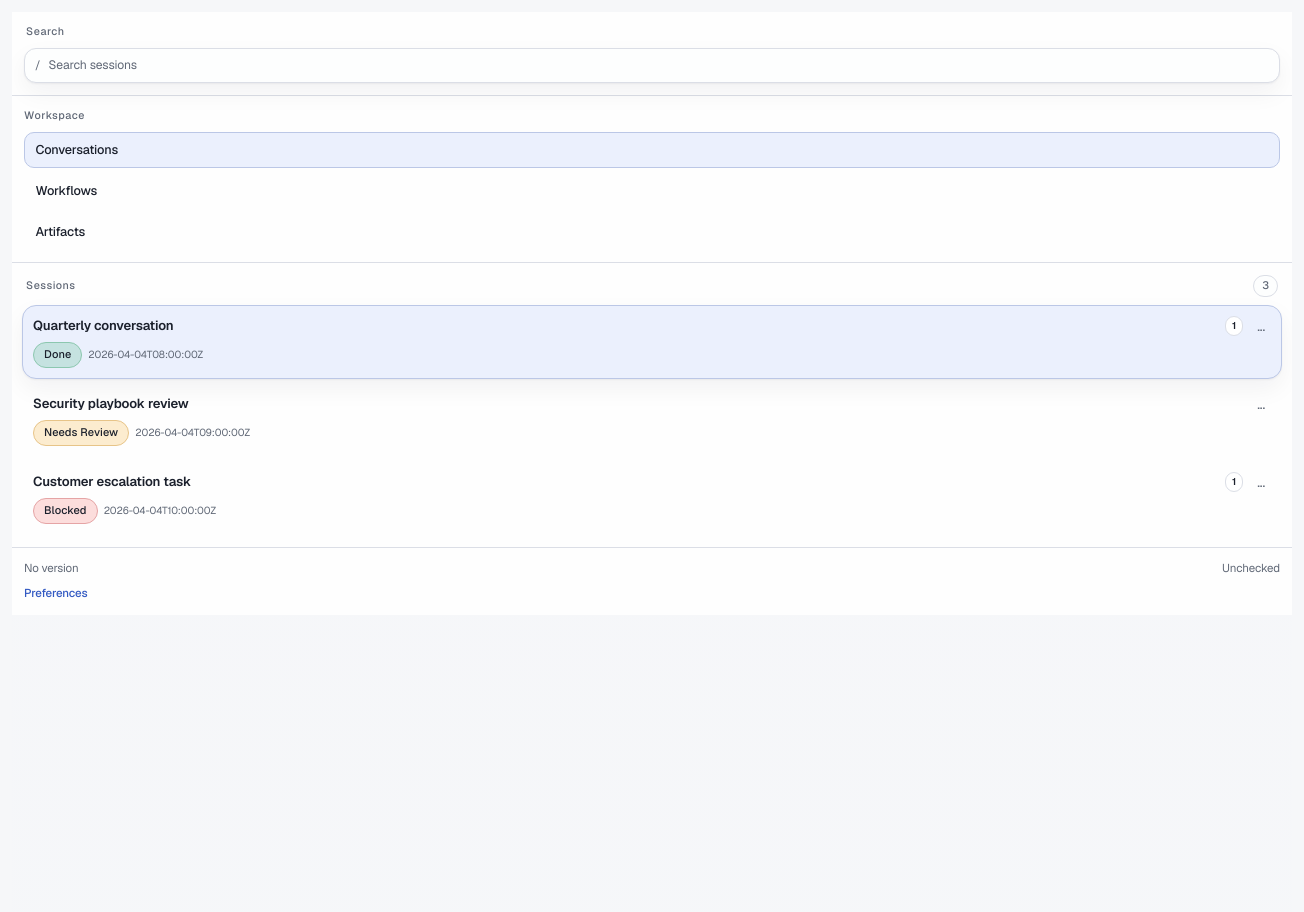
Test case: UserConsoleSidebar › renames a session from the sidebar
Expected: the text "Quarterly conversation" is shown, [33,317,174,334]
Step 1. Click the button named "more actions for quarterly conversation" → x=1261, y=327, box [1251,316,1271,337]
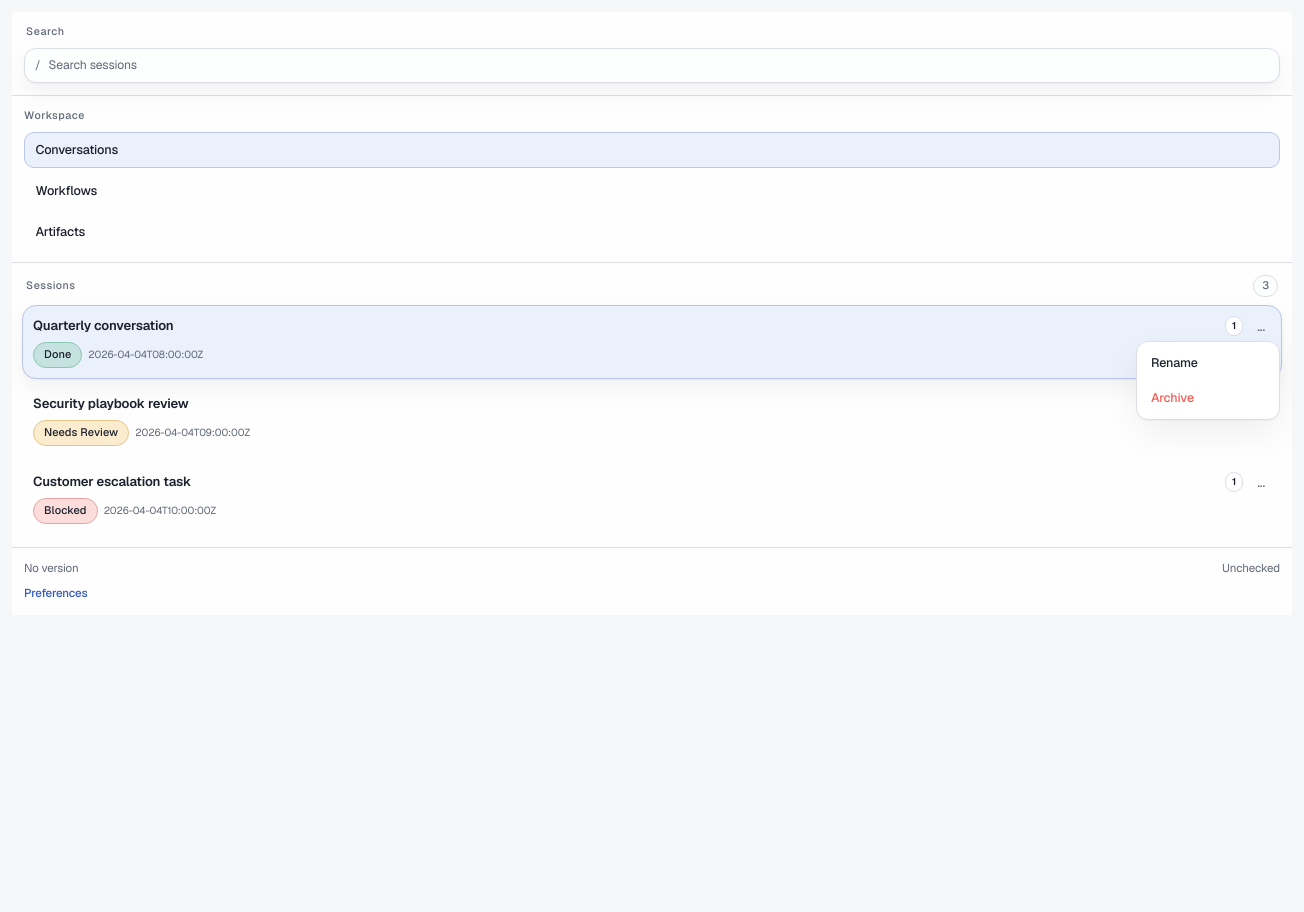
Step 2. Click the menu item "Rename" → x=1208, y=363, box [1141,346,1275,380]
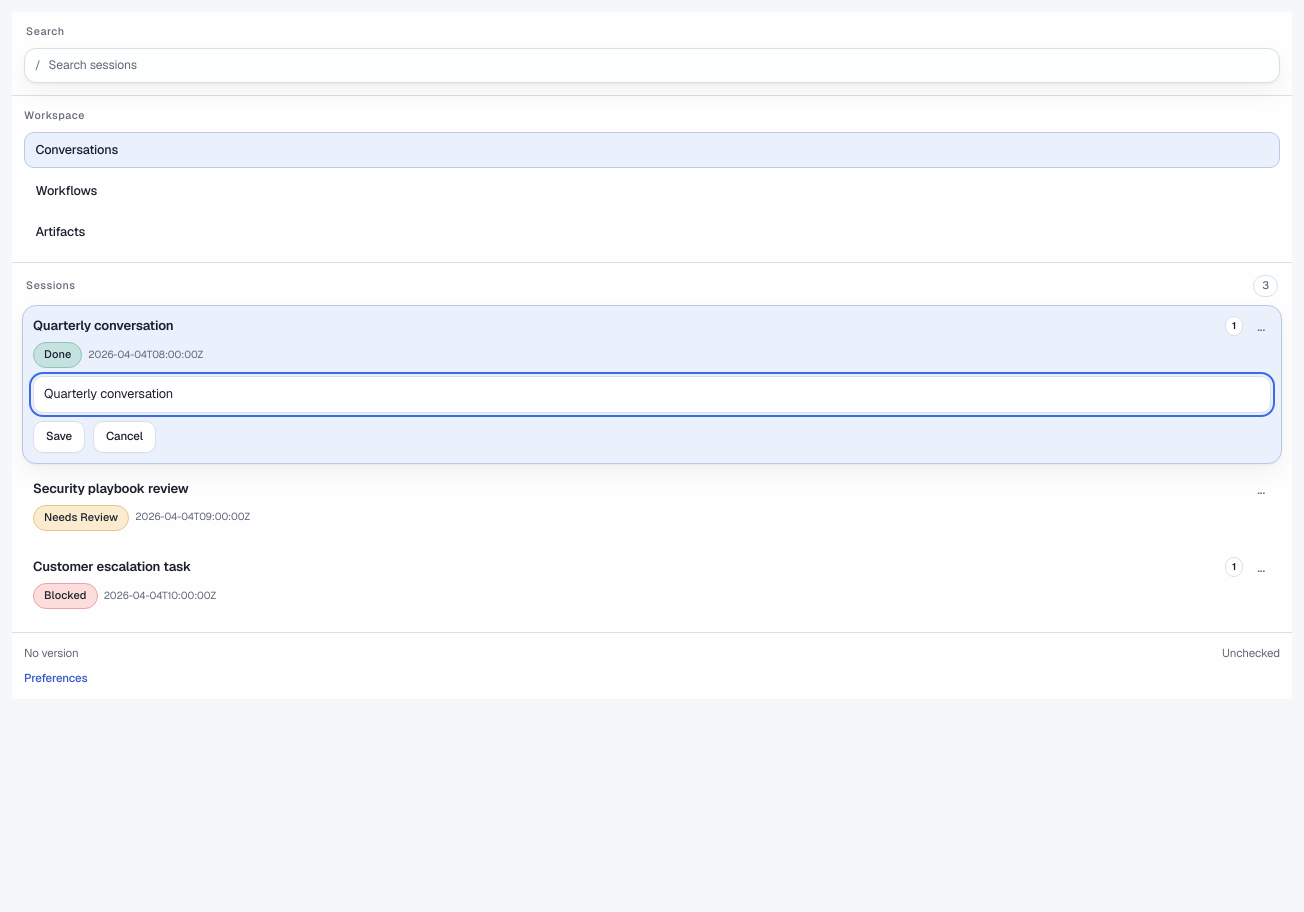
Step 3. Replace the text in the field with placeholder "Rename session" with "Board prep thread" → x=652, y=394, box [33,376,1271,413]
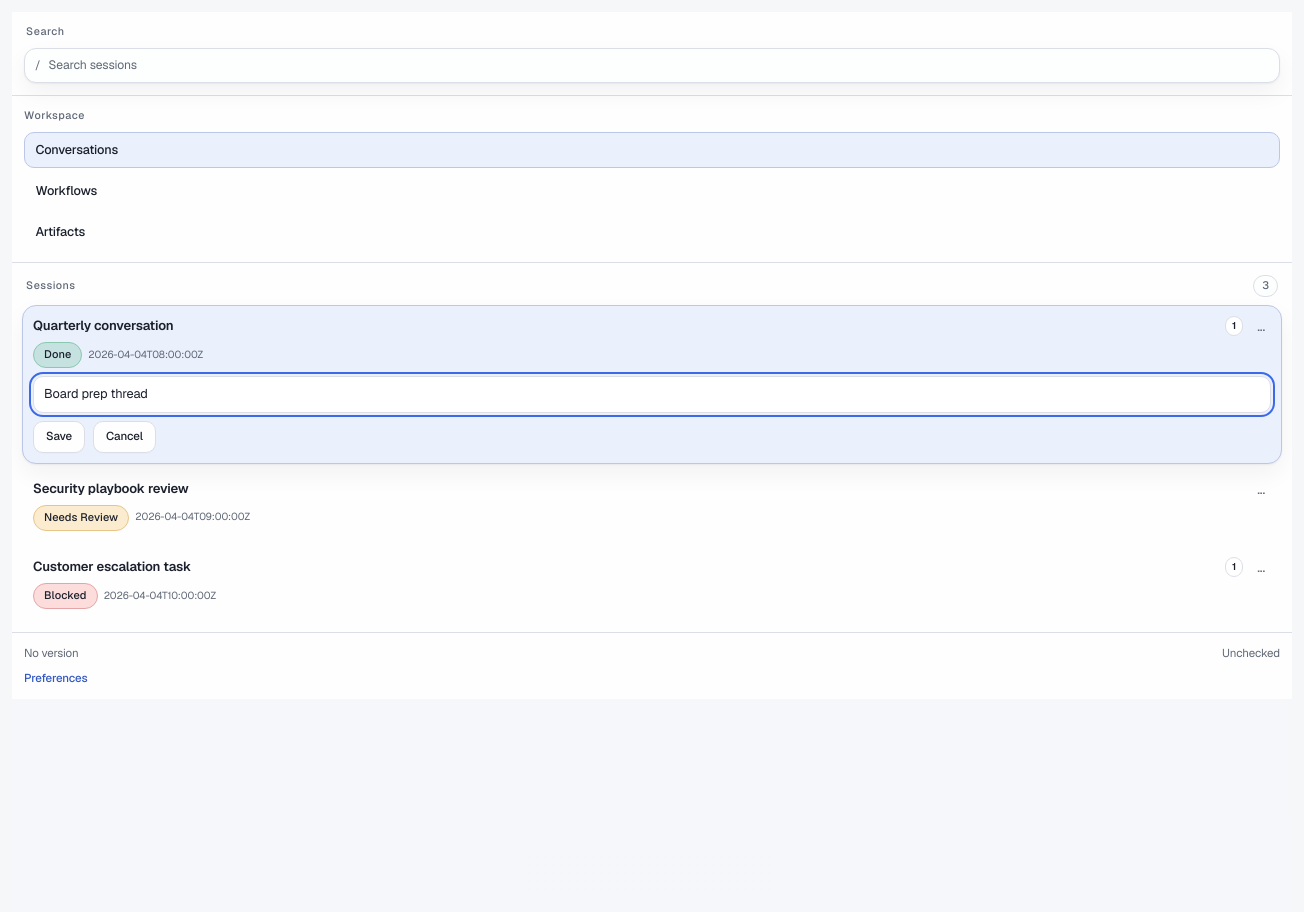
Step 4. Click the button "Save" → x=59, y=437, box [33,421,85,453]
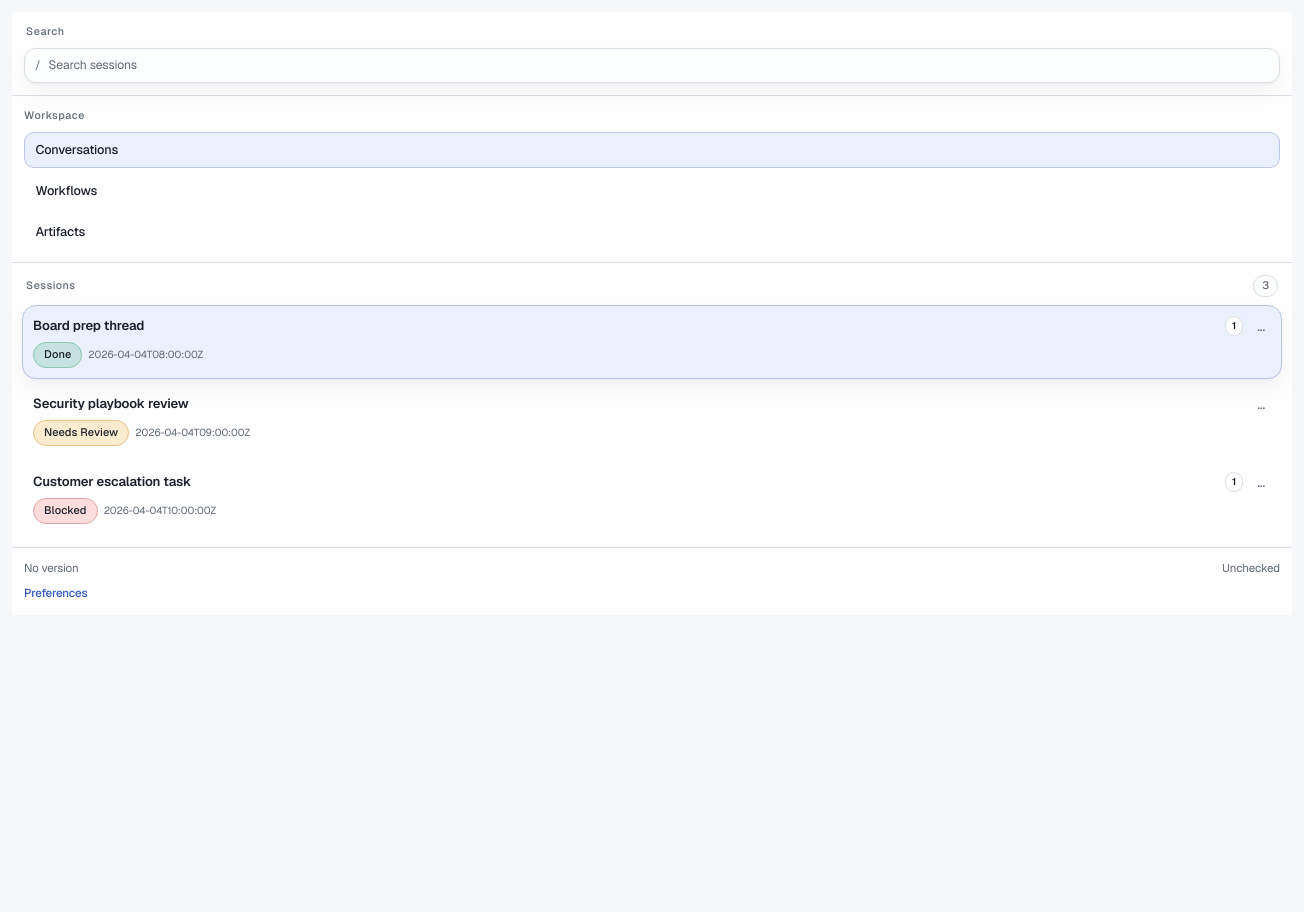
Now the text "Board prep thread" is shown, box [33,317,144,334]
